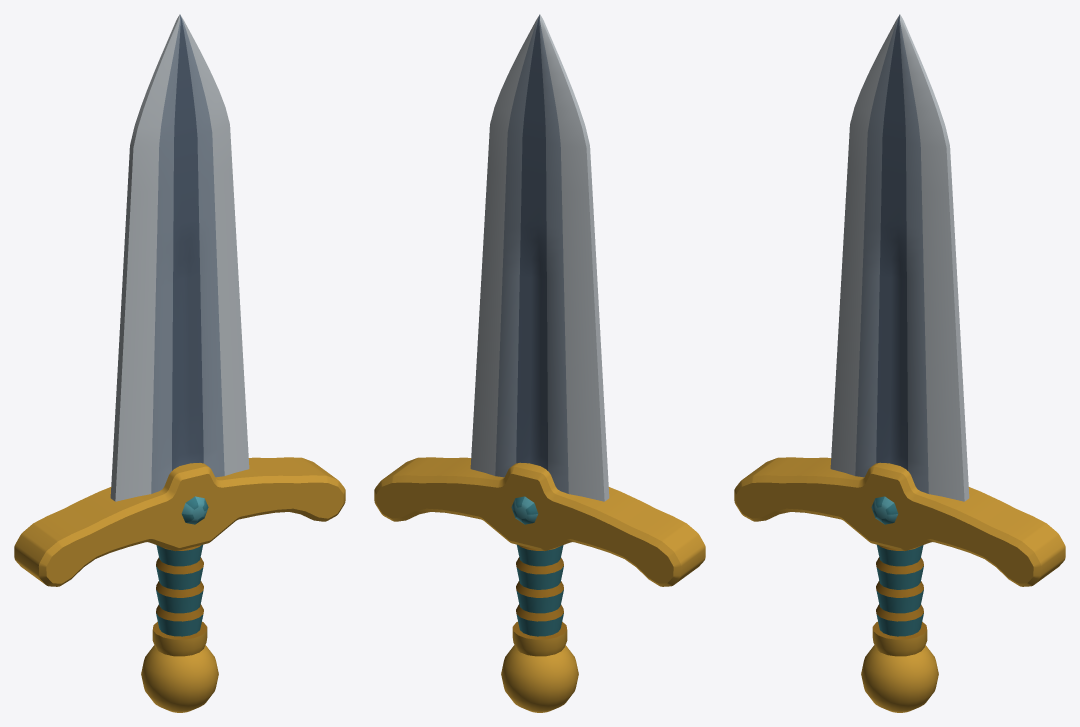
Rendered from Broadsword_10.glb.
3 renders of one model, left to right at view 1: azimuth 30°, elevation 25°; view 2: azimuth 150°, elevation 25°; view 3: azimuth 330°, elevation 25°, orthographic.
Parts seen in each view (by area): view 1: Broadsword_10; view 2: Broadsword_10; view 3: Broadsword_10.
Part boxes in pixels (<box>): Broadsword_10: <box>14,14,345,712</box>; Broadsword_10: <box>374,14,705,712</box>; Broadsword_10: <box>734,14,1065,712</box>.
Size of the model in its own units: 2.88 by 6.23 by 0.632.
